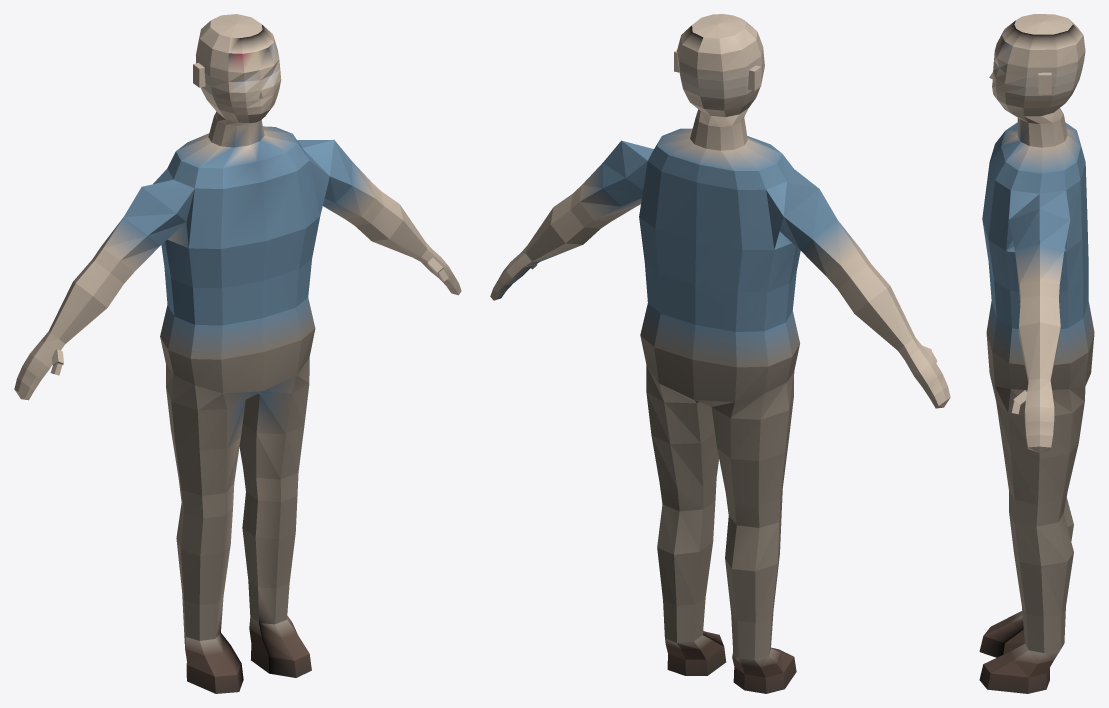
File: char__pessoa__multidao_21.glb
3 renders of one model, left to right at view 1: azimuth 30°, elevation 25°; view 2: azimuth 150°, elevation 25°; view 3: azimuth 270°, elevation 25°, orthographic. The views are drawn at different scales.
Visible parts, largest first — view 1: char__pessoa__multidao_21; view 2: char__pessoa__multidao_21; view 3: char__pessoa__multidao_21.
Part boxes in pixels (left/top/right/bottom): char__pessoa__multidao_21: left=14, top=14, right=461, bottom=693; char__pessoa__multidao_21: left=490, top=14, right=950, bottom=693; char__pessoa__multidao_21: left=979, top=14, right=1094, bottom=693.
Size of the model in its own units: 1.29 by 1.8 by 0.2899.
